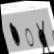correct: (7, 18, 23, 49)
not correct: (33, 16, 53, 54)
